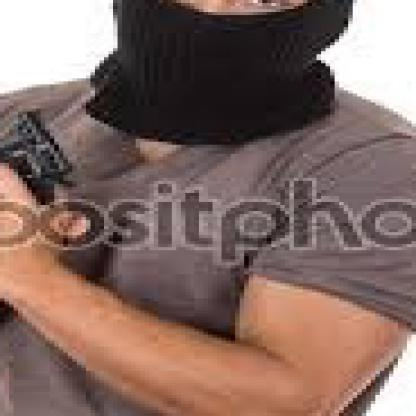gun: (0, 108, 82, 187)
